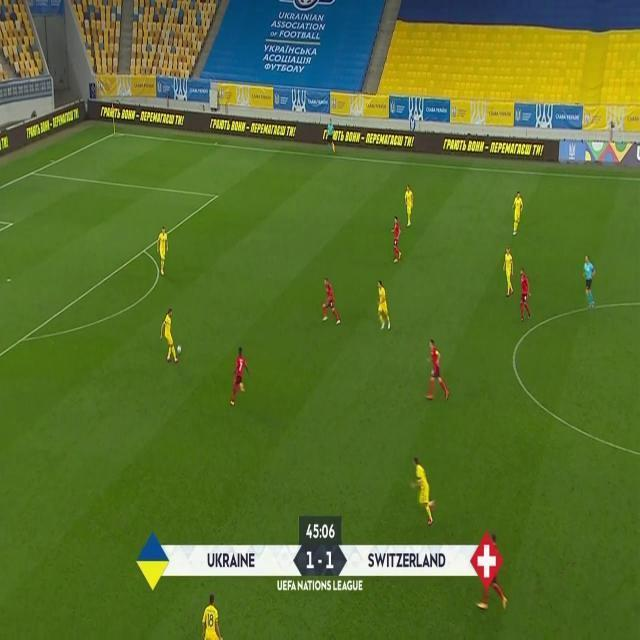ball: (177, 343, 183, 356)
player: (424, 338, 451, 402), (411, 457, 436, 525), (199, 587, 228, 640), (229, 346, 252, 407), (160, 308, 179, 363), (322, 278, 340, 326), (377, 280, 392, 331), (519, 267, 532, 323), (503, 246, 516, 296), (158, 226, 170, 276), (391, 216, 403, 264), (512, 192, 524, 237), (402, 185, 414, 227)
referee: (582, 254, 597, 309), (327, 118, 337, 157)
